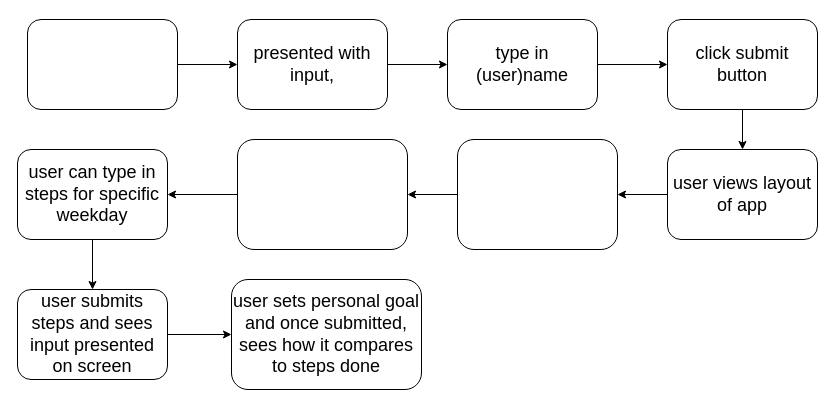
The diagram is 835 pixels wide and 410 high, and some of its shapes have lost their labels. Each missing label, with the centre of its shape:
"each weekday that is clicked, will present user with empty input box" goes at (x=322, y=194).
"layout includes input of daily steps + weekday tabs" goes at (x=537, y=194).
"user accesses the website/app through a link" goes at (x=102, y=64).
